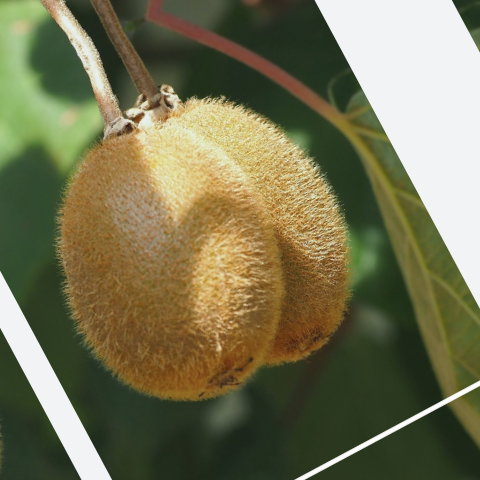kiwi: (0, 69, 345, 463)
